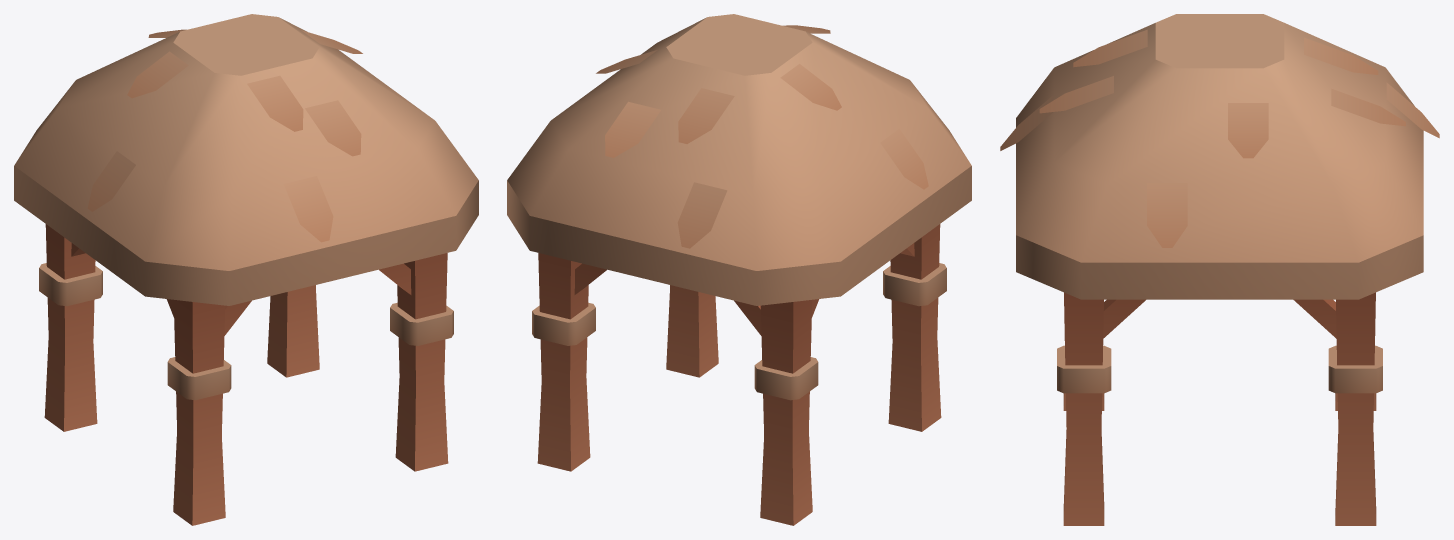
File: pavilion.glb
3 views of the same model, side by side, from view 1: azimuth 30°, elevation 25°; view 2: azimuth 150°, elevation 25°; view 3: azimuth 270°, elevation 25° (orthographic). The views are drawn at different scales.
Parts seen in each view (by area): view 1: pir_structure-roof; view 2: pir_structure-roof; view 3: pir_structure-roof.
Boxes of the visible parts, x1,y1,x2,y2 form: pir_structure-roof: (14,14,478,525); pir_structure-roof: (507,14,971,525); pir_structure-roof: (1000,14,1439,525).
Size of the model in its own units: 3.09 by 3.4 by 3.23.
